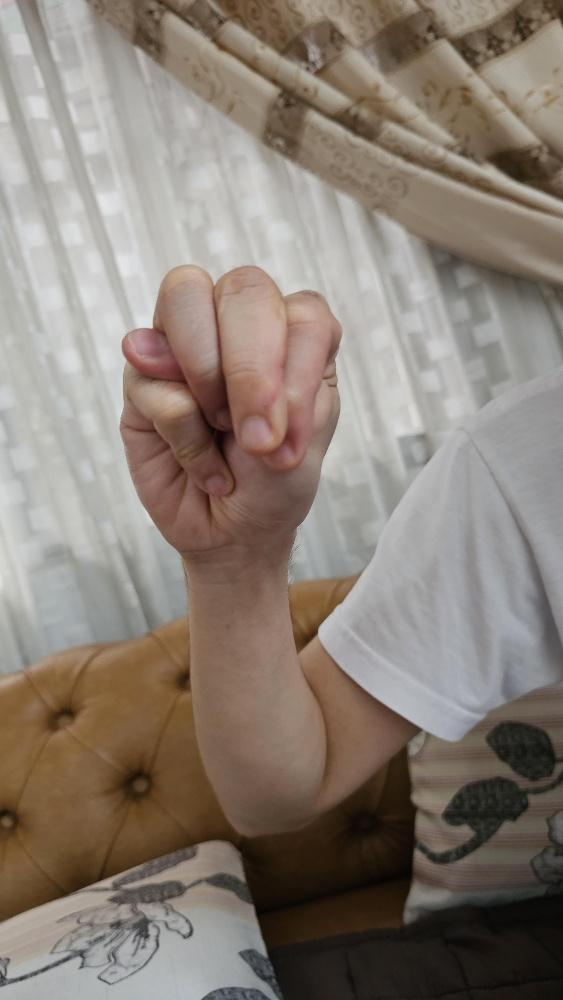m: (116, 259, 344, 551)
